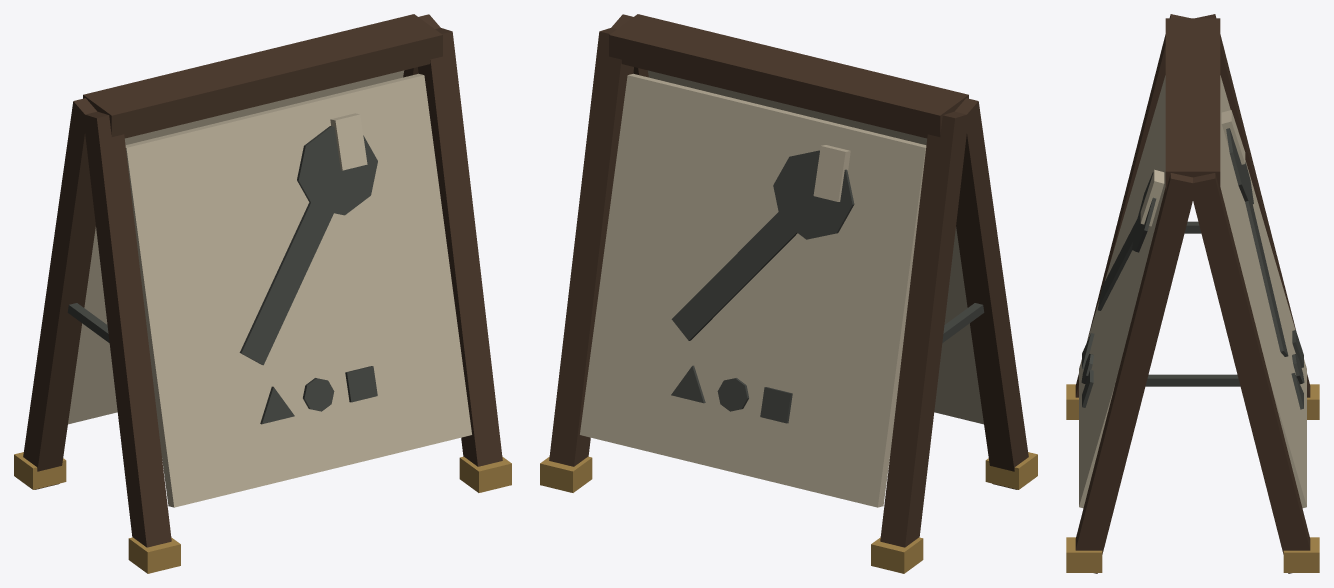
The model's file is sign_stand.glb.
3 renders of one model, left to right at view 1: azimuth 30°, elevation 25°; view 2: azimuth 150°, elevation 25°; view 3: azimuth 270°, elevation 25°, orthographic. The views are drawn at different scales.
Parts seen in each view (by area): view 1: sign_stand; view 2: sign_stand; view 3: sign_stand.
Boxes of the visible parts, left/top/right/bottom form: sign_stand: left=14, top=14, right=511, bottom=573; sign_stand: left=540, top=14, right=1037, bottom=573; sign_stand: left=1066, top=14, right=1319, bottom=573.
Size of the model in its own units: 0.88 by 0.9668 by 0.56.
